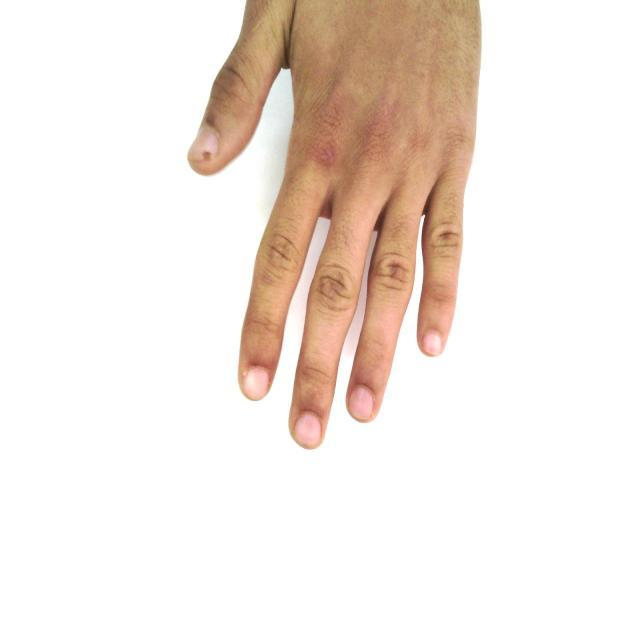Fingernail: (190, 125, 218, 161), (295, 413, 321, 446), (244, 368, 269, 398), (350, 388, 373, 419), (423, 332, 441, 355)
